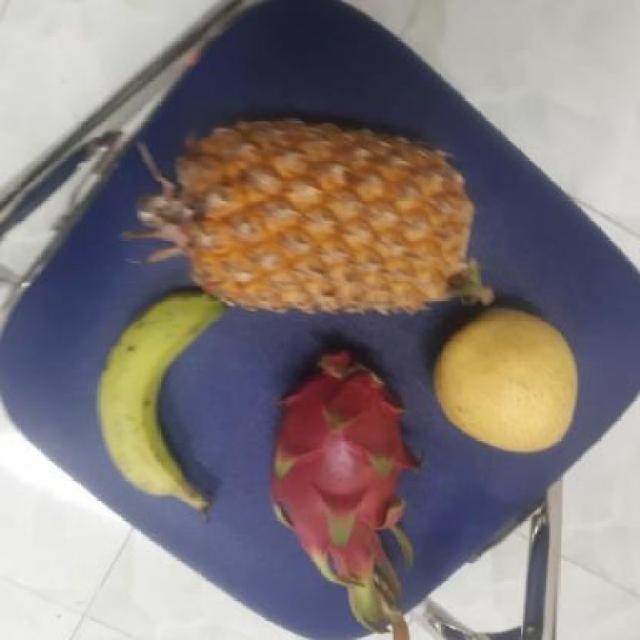banana: (86, 295, 228, 510)
dragon fruit: (268, 358, 417, 580)
pear: (426, 311, 580, 451)
pineapple: (135, 111, 477, 311)
